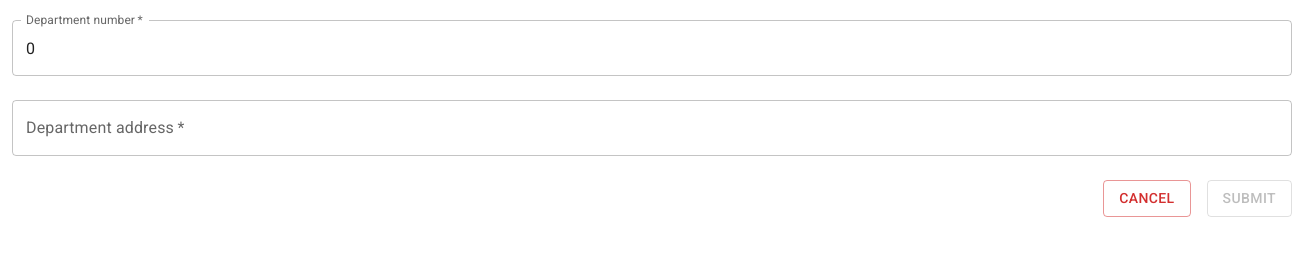
Test: CreateDepartmentForm › full address validation api error is displayed
Expected: the button with test id "submit-btn" is disabled, [1207,180,1292,216]
Replace the text in the field labelled "Department number *" with "1" at coordinates (652, 48), box [12,20,1292,76]
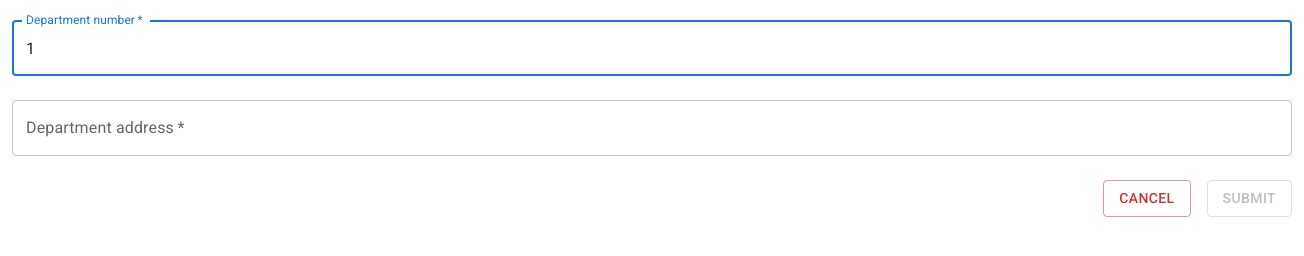
Type "address" into the field labelled "Department address *" at coordinates (652, 128), box [12,100,1292,156]
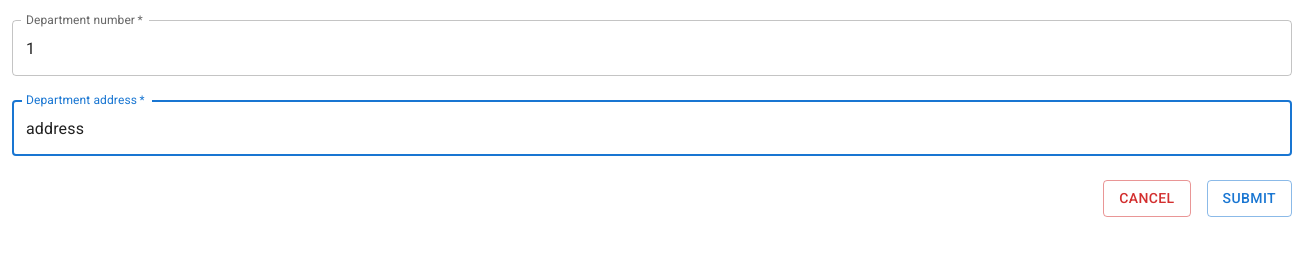
Click the button with test id "submit-btn" at coordinates (1249, 198), box [1207,180,1292,216]
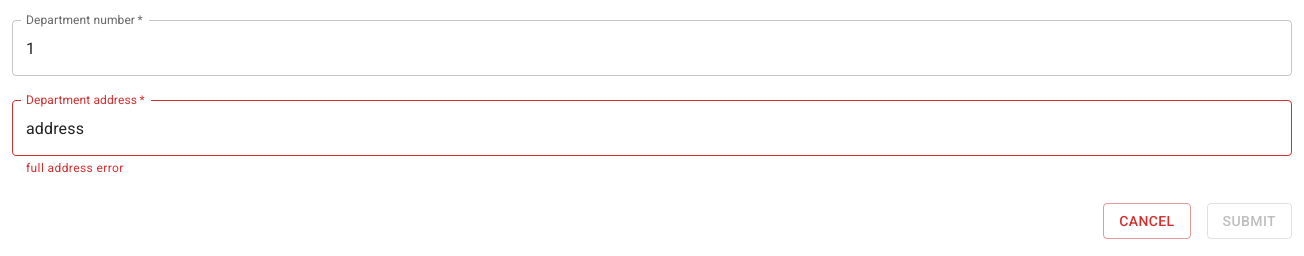
Expected: the text "full address error" is shown, [26,161,124,175]
Expected: the button with test id "submit-btn" is disabled, [1207,203,1292,239]
